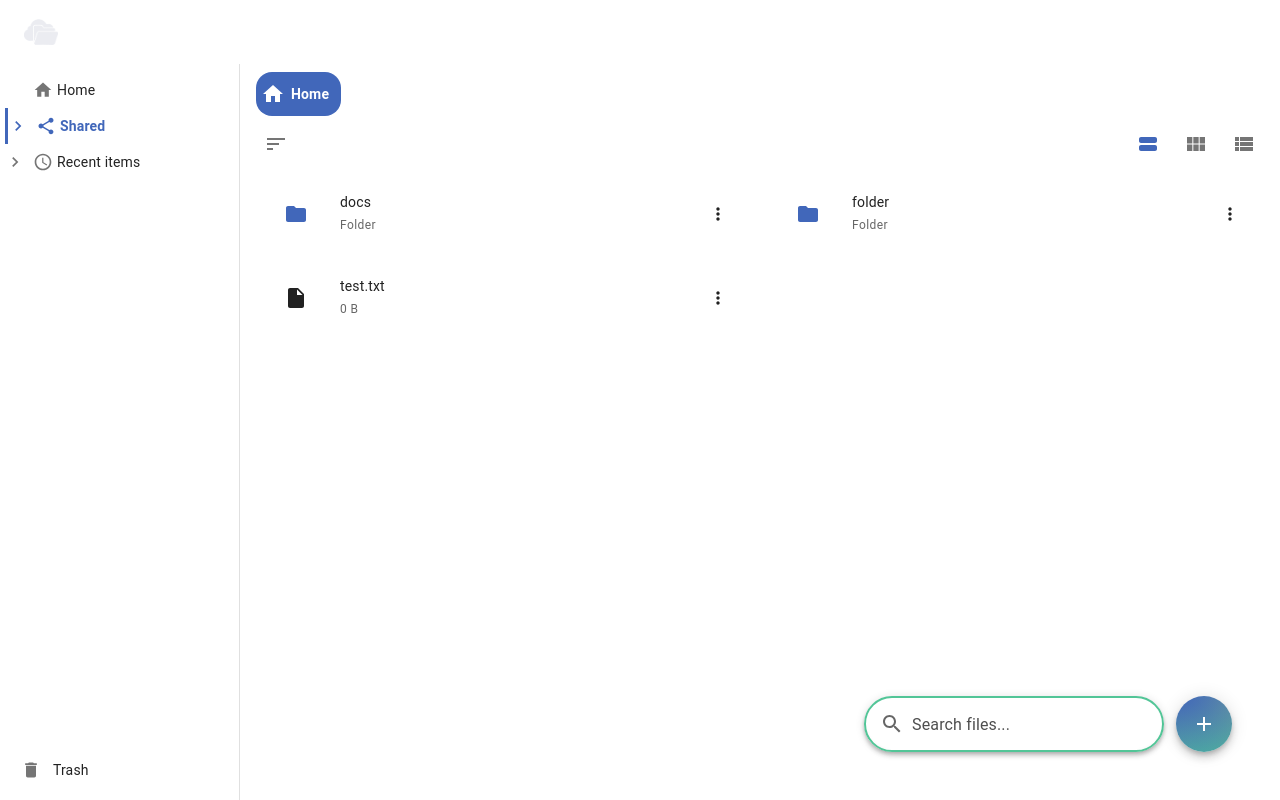
Test: FileManager › selection mode: click empty space exits selection mode on desktop
Click the text "test.txt".
click(362, 286)  # box [340,278,385,294]
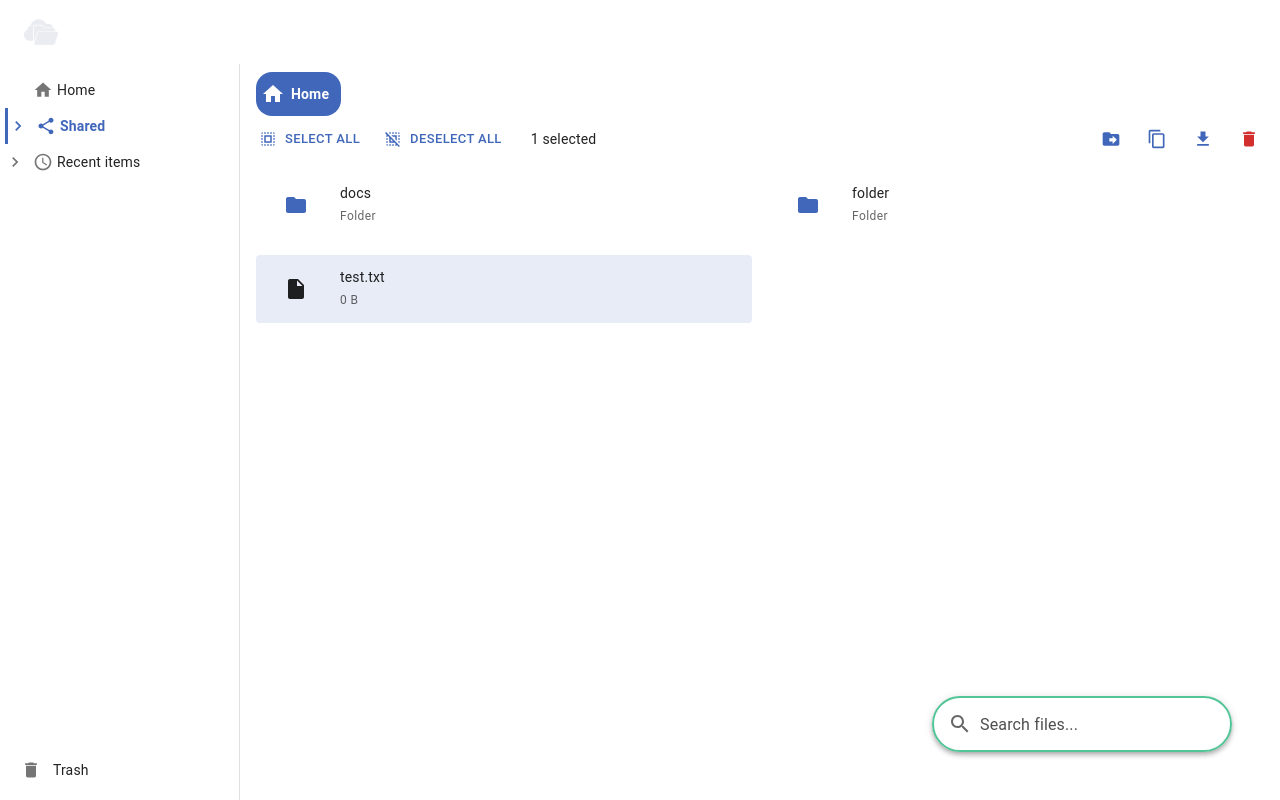
Expected: the button named "move" is shown, [1096,124,1126,154]
Click the element showing "docs Folder folder Folder test.txt 0 B".
click(573, 254)  # box [256,185,889,323]
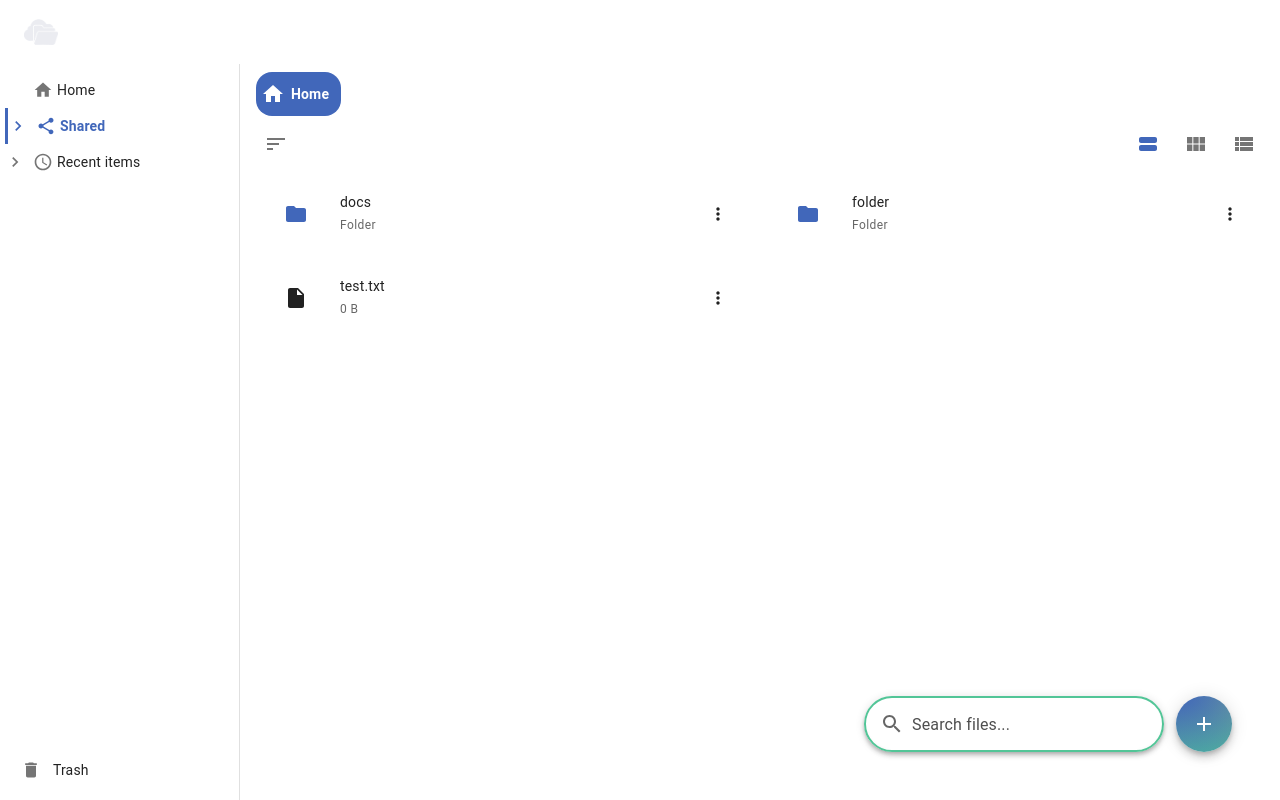
Expected: the button "move" is gone
